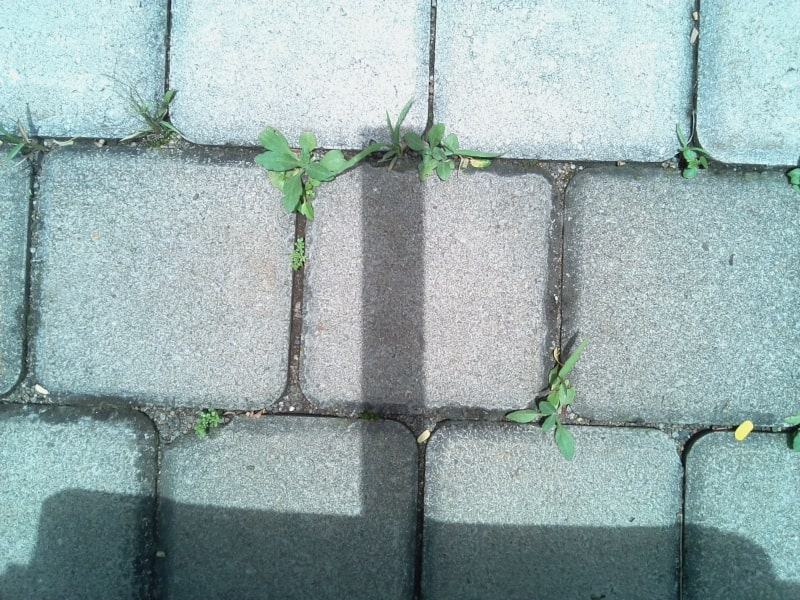Weed: (506, 342, 589, 460), (251, 128, 348, 220), (103, 69, 188, 154), (403, 122, 478, 184), (376, 101, 413, 178), (2, 120, 54, 171), (671, 123, 710, 187), (190, 410, 229, 443), (286, 236, 313, 273)
